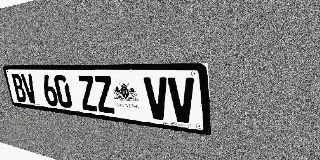0: (53, 75, 73, 109)
6: (40, 74, 59, 107)
B: (11, 74, 27, 103)
V: (167, 77, 196, 124), (143, 77, 170, 121), (21, 74, 38, 104)
Z: (93, 76, 116, 114), (77, 75, 99, 112)
